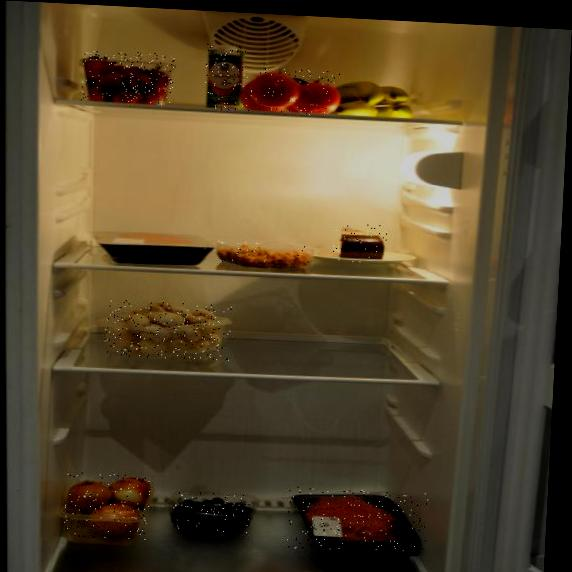banana: (334, 80, 416, 119)
blueberries: (173, 489, 253, 533)
cheese: (332, 223, 387, 264)
ground_beef: (287, 487, 428, 556)
heavy_cream: (204, 44, 247, 111)
mushrooms: (104, 299, 232, 362)
onion: (64, 472, 151, 540)
shrimp: (216, 240, 313, 269)
strawberries: (81, 50, 175, 105)
tomato: (238, 66, 342, 117)
